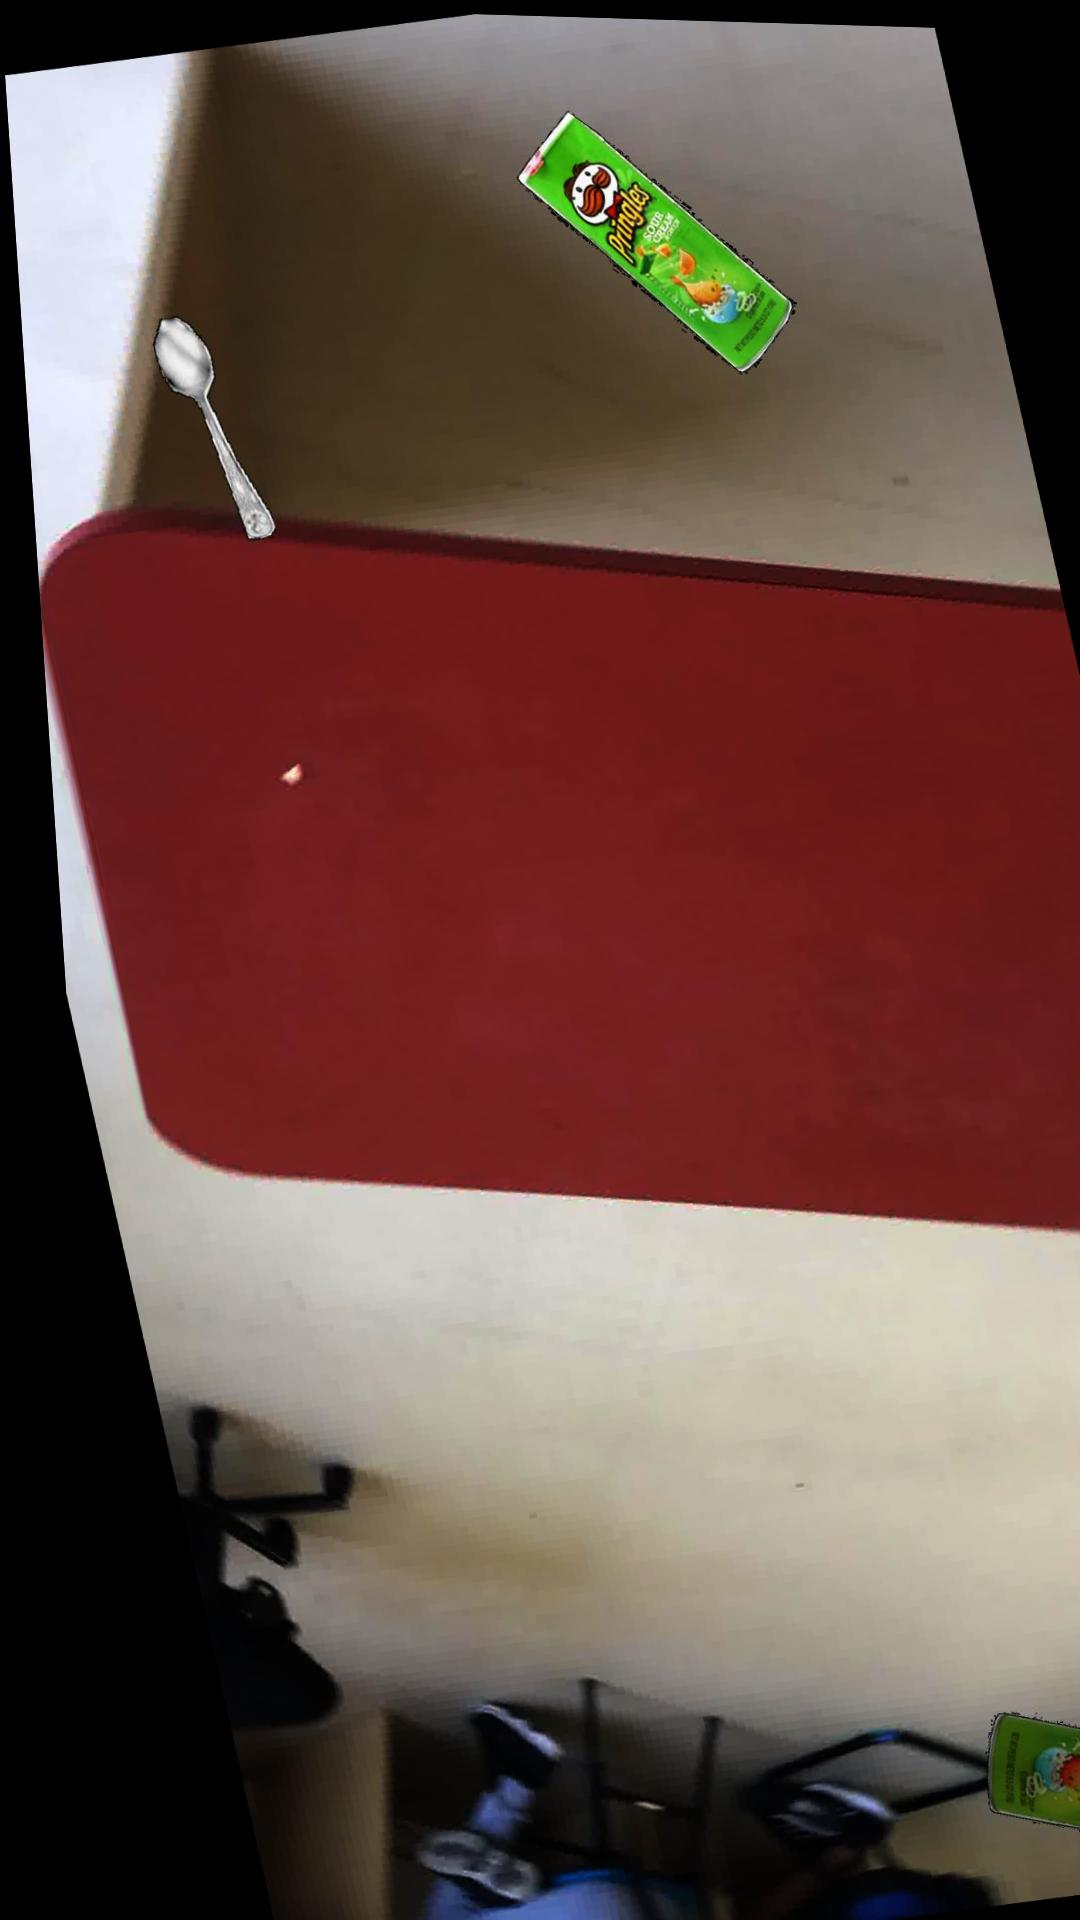pringles: (514, 107, 790, 369), (963, 1706, 1080, 1828)
spoon: (149, 315, 269, 539)
